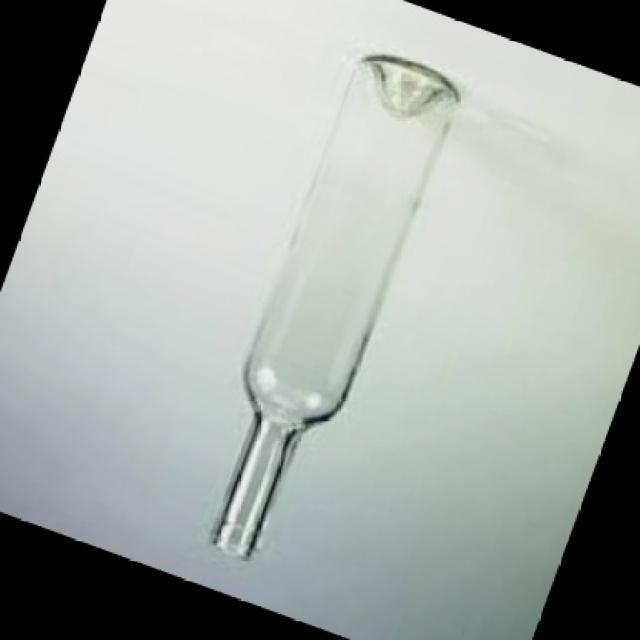Glass: (208, 52, 461, 564)
